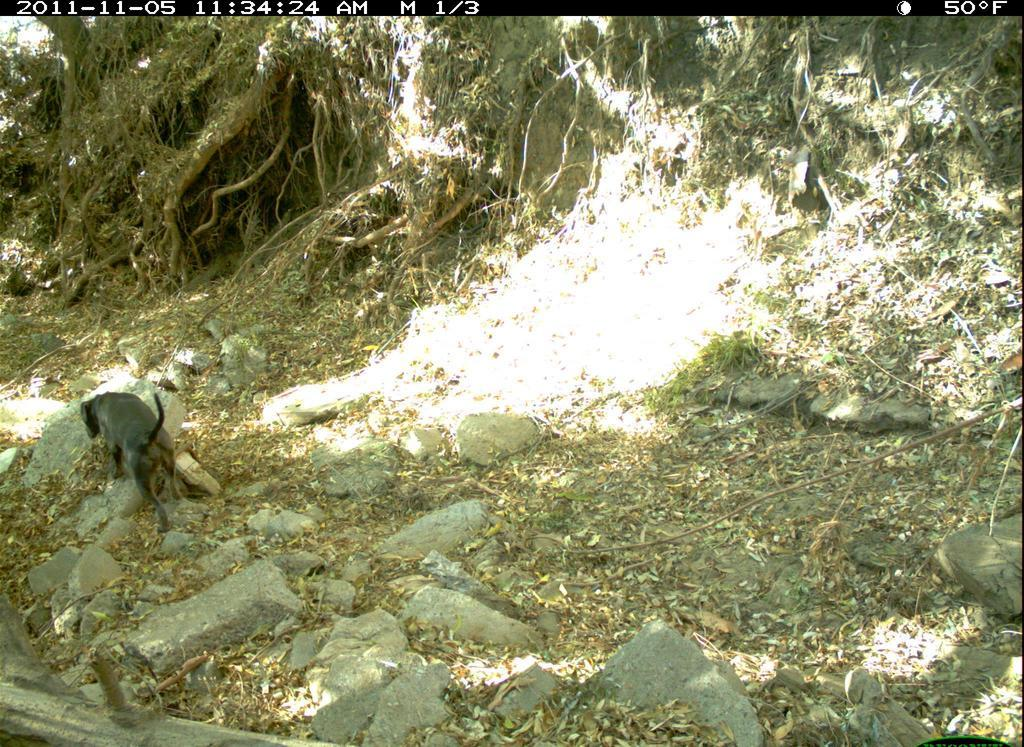dog: (77, 390, 193, 537)
